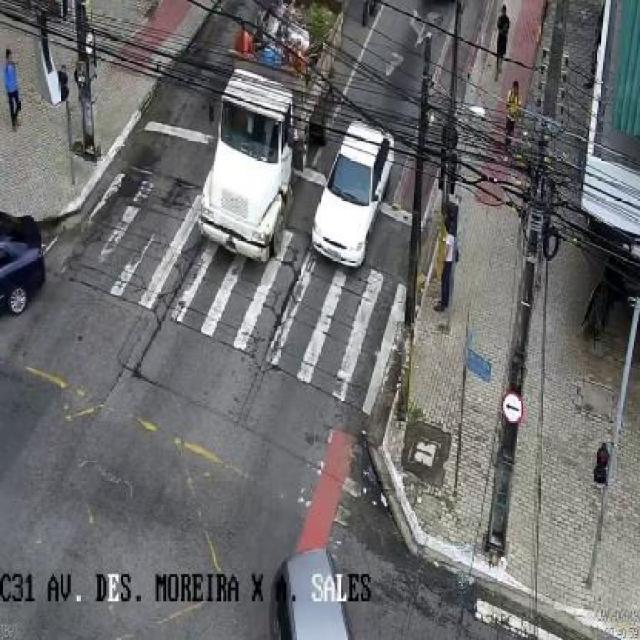Car: (311, 118, 397, 267), (267, 547, 353, 640), (0, 209, 46, 313)
Truck: (198, 0, 346, 266)
